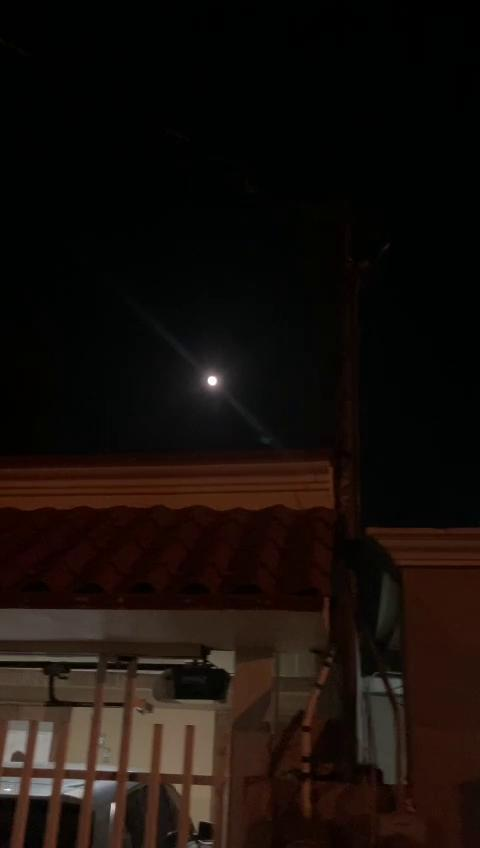moon: (194, 366, 226, 400)
